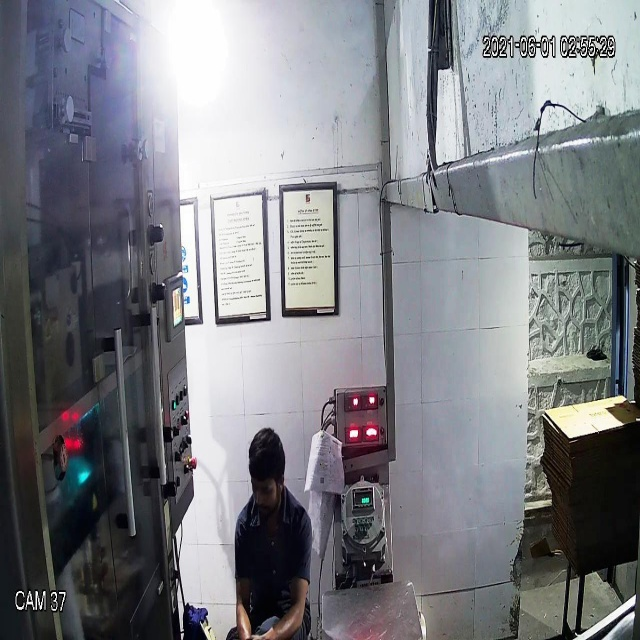Sin_gafas: (244, 468, 286, 504)
